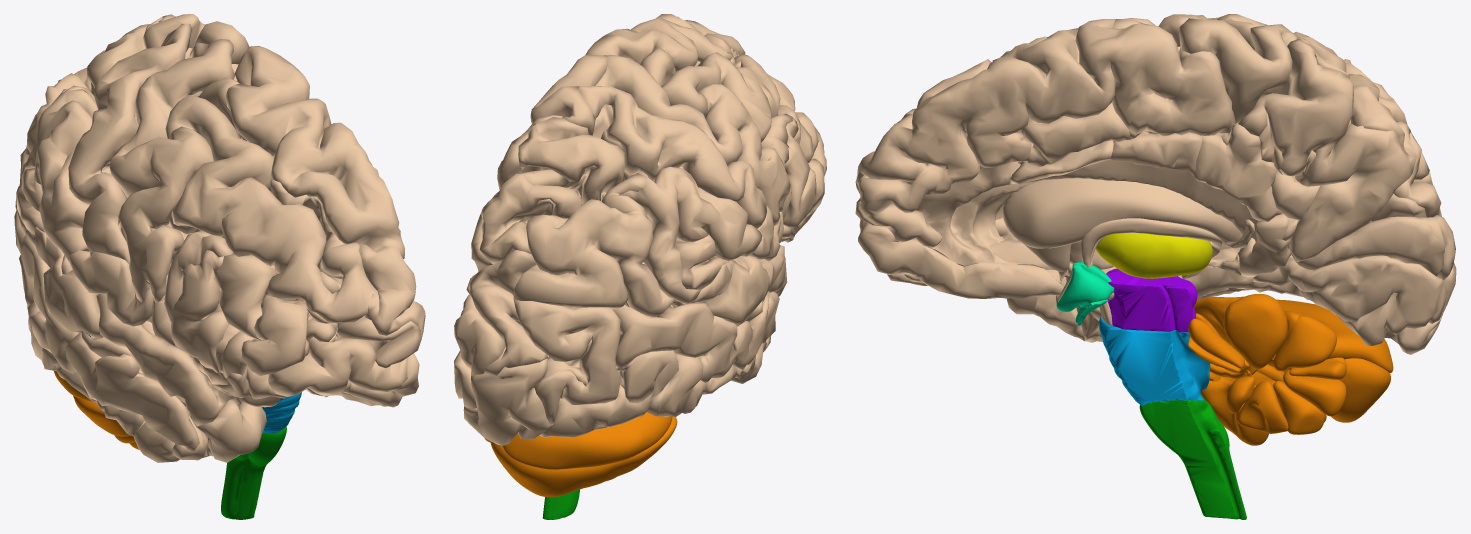
The model's file is Brain.glb.
3 renders of one model, left to right at view 1: azimuth 30°, elevation 25°; view 2: azimuth 150°, elevation 25°; view 3: azimuth 270°, elevation 25°, orthographic. The views are drawn at different scales.
Visible parts, largest first — view 1: Cerebrum, Medulla oblongata.r, cerebellum, Pons.r; view 2: Cerebrum, cerebellum, Medulla oblongata.r; view 3: Cerebrum, cerebellum, Medulla oblongata.r, Pons.r, Midbrain, Thalamus.r, Hypothalamus.
Part boxes in pixels (x1,y1,x2,y2): Cerebrum: (14,14,425,462); Medulla oblongata.r: (221,426,286,519); cerebellum: (54,371,138,449); Pons.r: (262,392,301,433); Cerebrum: (454,14,826,445); cerebellum: (484,412,677,497); Medulla oblongata.r: (542,489,579,519); Cerebrum: (855,14,1456,354); cerebellum: (1188,294,1393,445); Medulla oblongata.r: (1139,391,1246,519); Pons.r: (1099,316,1210,405); Midbrain: (1106,268,1197,332); Thalamus.r: (1095,233,1212,278); Hypothalamus: (1056,262,1114,325).
Size of the model in its own units: 0.0785 by 0.1608 by 0.1807.
